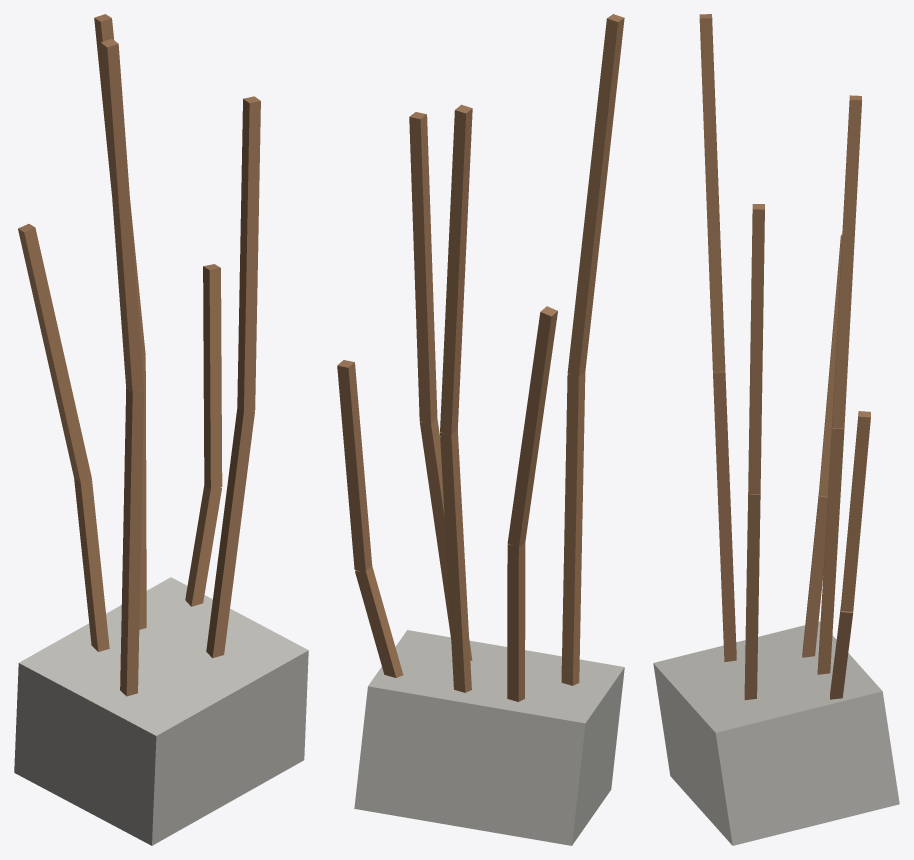
File: dm_rebar.glb
The picture shows the model from 3 angles, left to right: view 1: azimuth 30°, elevation 25°; view 2: azimuth 150°, elevation 25°; view 3: azimuth 270°, elevation 25°; orthographic projection. The views are drawn at different scales.
Parts seen in each view (by area): view 1: dm_rebar; view 2: dm_rebar; view 3: dm_rebar.
Part boxes in pixels (<box>): dm_rebar: <box>14,14,308,845</box>; dm_rebar: <box>337,14,624,845</box>; dm_rebar: <box>653,14,899,845</box>.
Size of the model in its own units: 0.2947 by 0.9367 by 0.2791.
